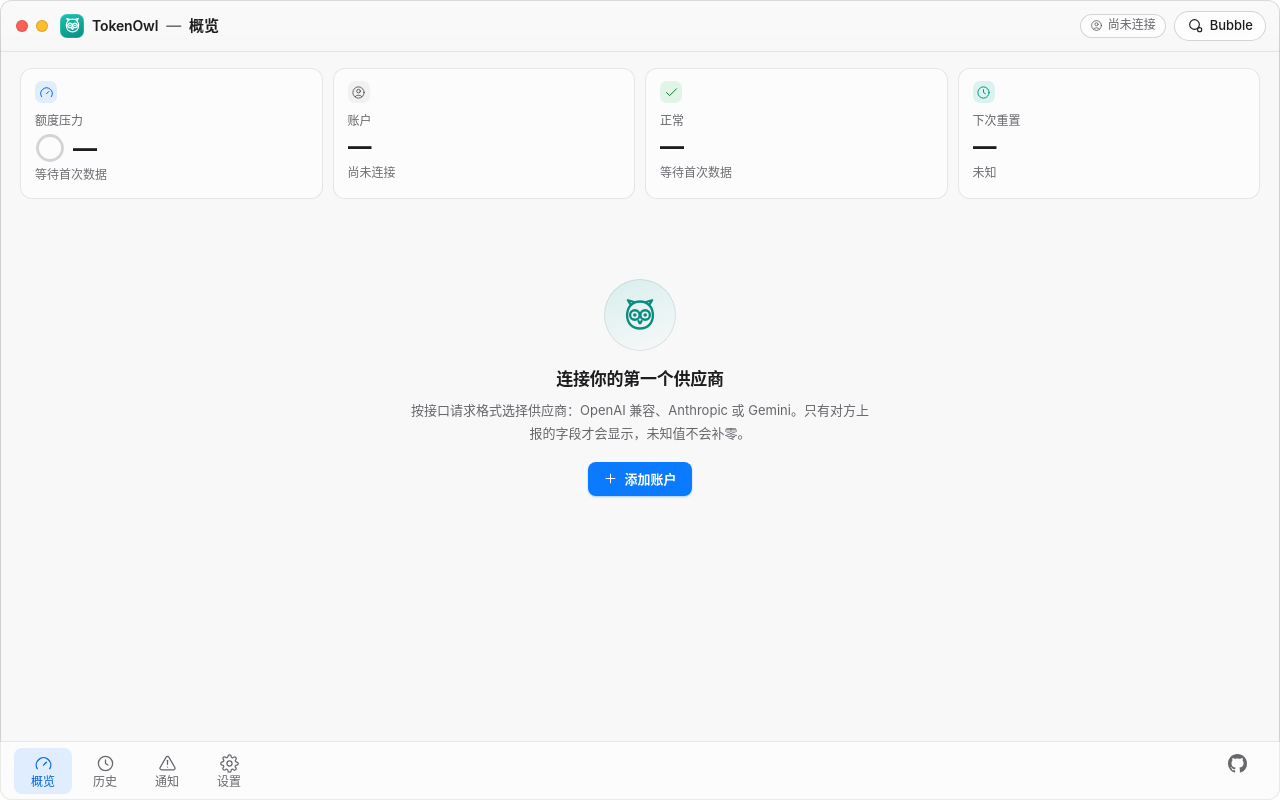
Scenario: setup form submit wiring › exposes the connect button as a submit control inside a real form
The width and height of the screenshot is (1280, 800).
Click the button "添加账户". click: [640, 479]
box: top-left (588, 462), bottom-right (692, 496)
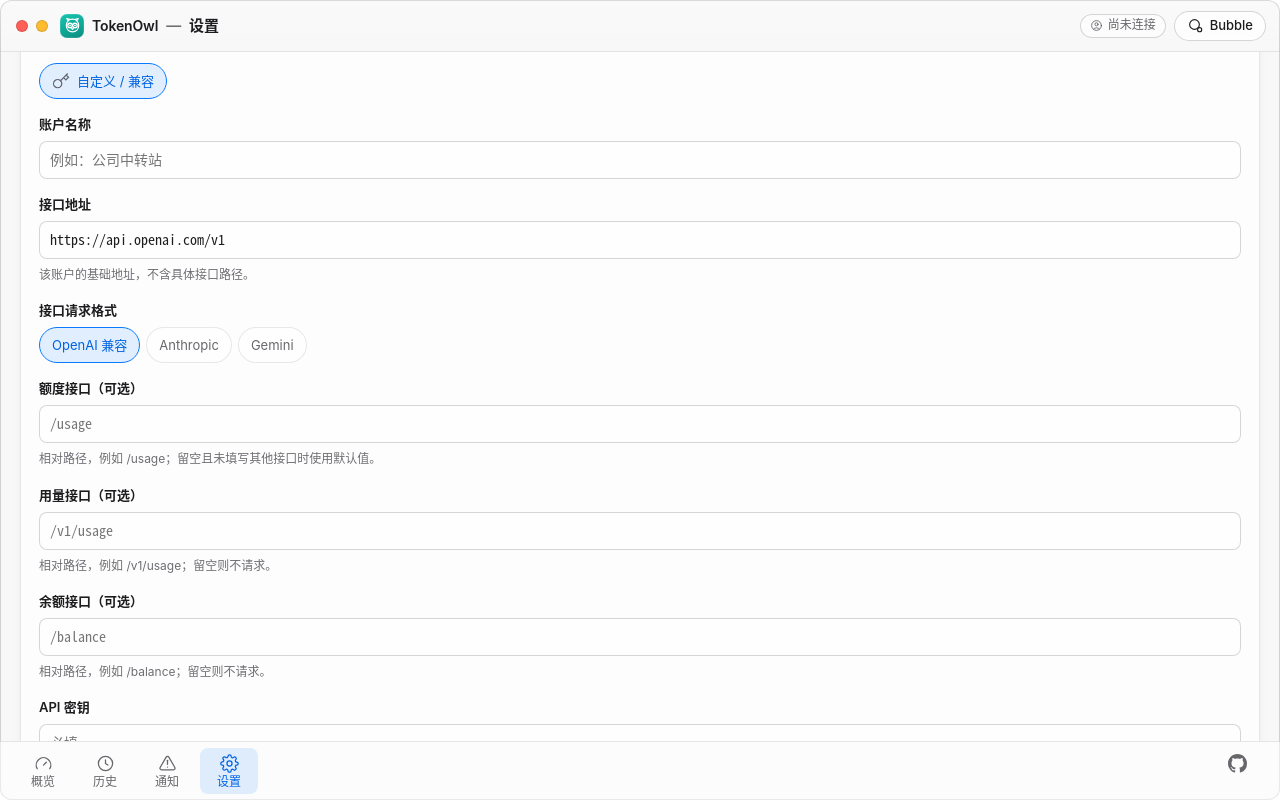
Expected: the field labelled "账户名称" is shown, top-left (39, 141), bottom-right (1241, 179)
Expected: the form is shown
